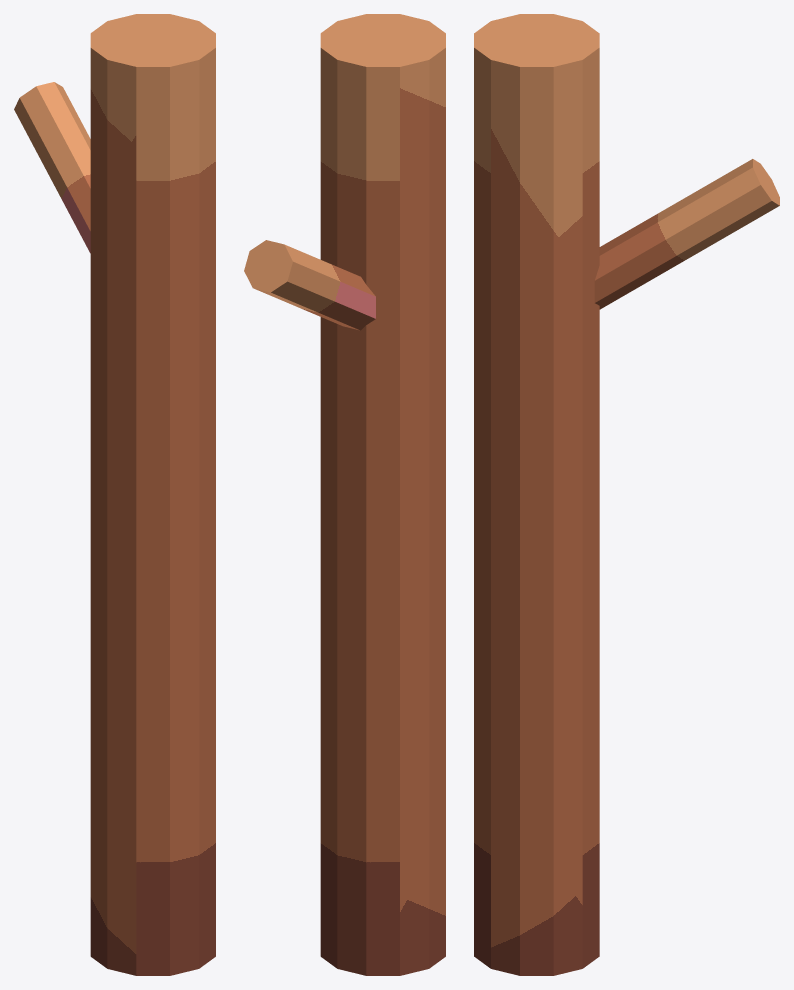
The model's file is Stick.gltf.
The picture shows the model from 3 angles, left to right: view 1: azimuth 30°, elevation 25°; view 2: azimuth 150°, elevation 25°; view 3: azimuth 270°, elevation 25°; orthographic projection.
Parts seen in each view (by area): view 1: Stick; view 2: Stick; view 3: Stick.
Boxes of the visible parts, <box> form: Stick: <box>14,14,215,975</box>; Stick: <box>244,14,445,975</box>; Stick: <box>474,14,779,975</box>.
Size of the model in its own units: 0.0625 by 0.5 by 0.1524.
Materials: 1 (1 with a texture image).
